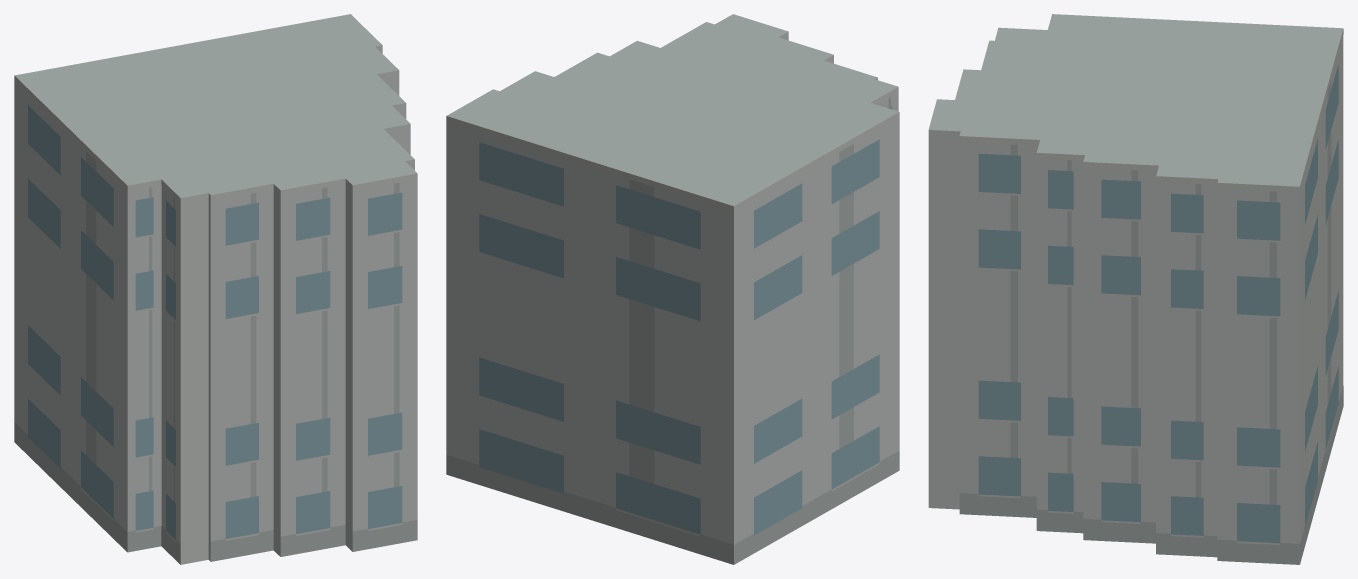
File: survey-upis-32806136.glb
3 views of the same model, side by side, from view 1: azimuth 30°, elevation 25°; view 2: azimuth 150°, elevation 25°; view 3: azimuth 270°, elevation 25° (orthographic). The views are drawn at different scales.
Parts seen in each view (by area): view 1: survey-upis-32806136.tmp; view 2: survey-upis-32806136.tmp; view 3: survey-upis-32806136.tmp.
Part boxes in pixels (box(x1,y1,x2,y2)): survey-upis-32806136.tmp: box(14, 14, 417, 564); survey-upis-32806136.tmp: box(446, 14, 899, 564); survey-upis-32806136.tmp: box(928, 14, 1343, 564).
Size of the model in its own units: 15.1 by 15.4 by 15.33.
